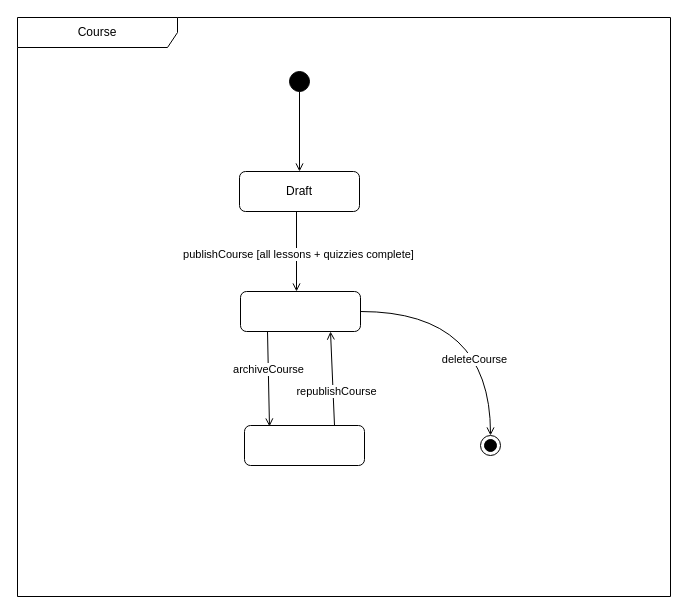
Some shapes in this 688 by 614 pixel diagram are drawn without their labels. The centre of each missing label's shape, as x and y in pixels:
Archived: the point at 304,445
Published: the point at 300,311
